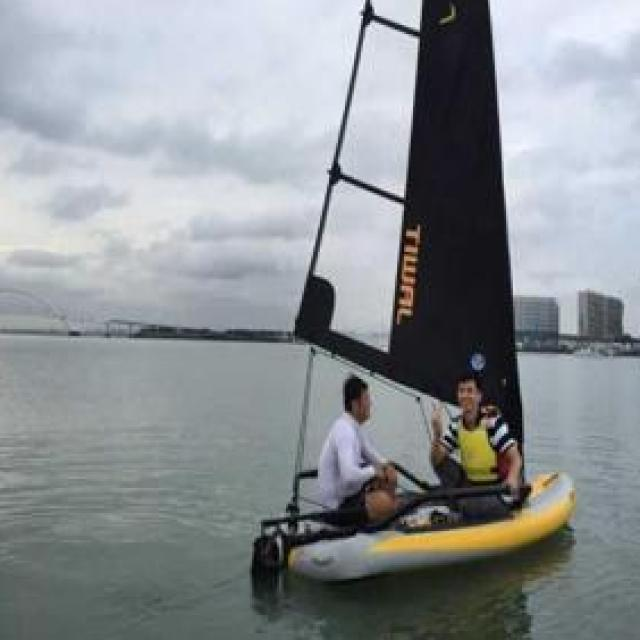sailboat: (249, 0, 581, 576)
